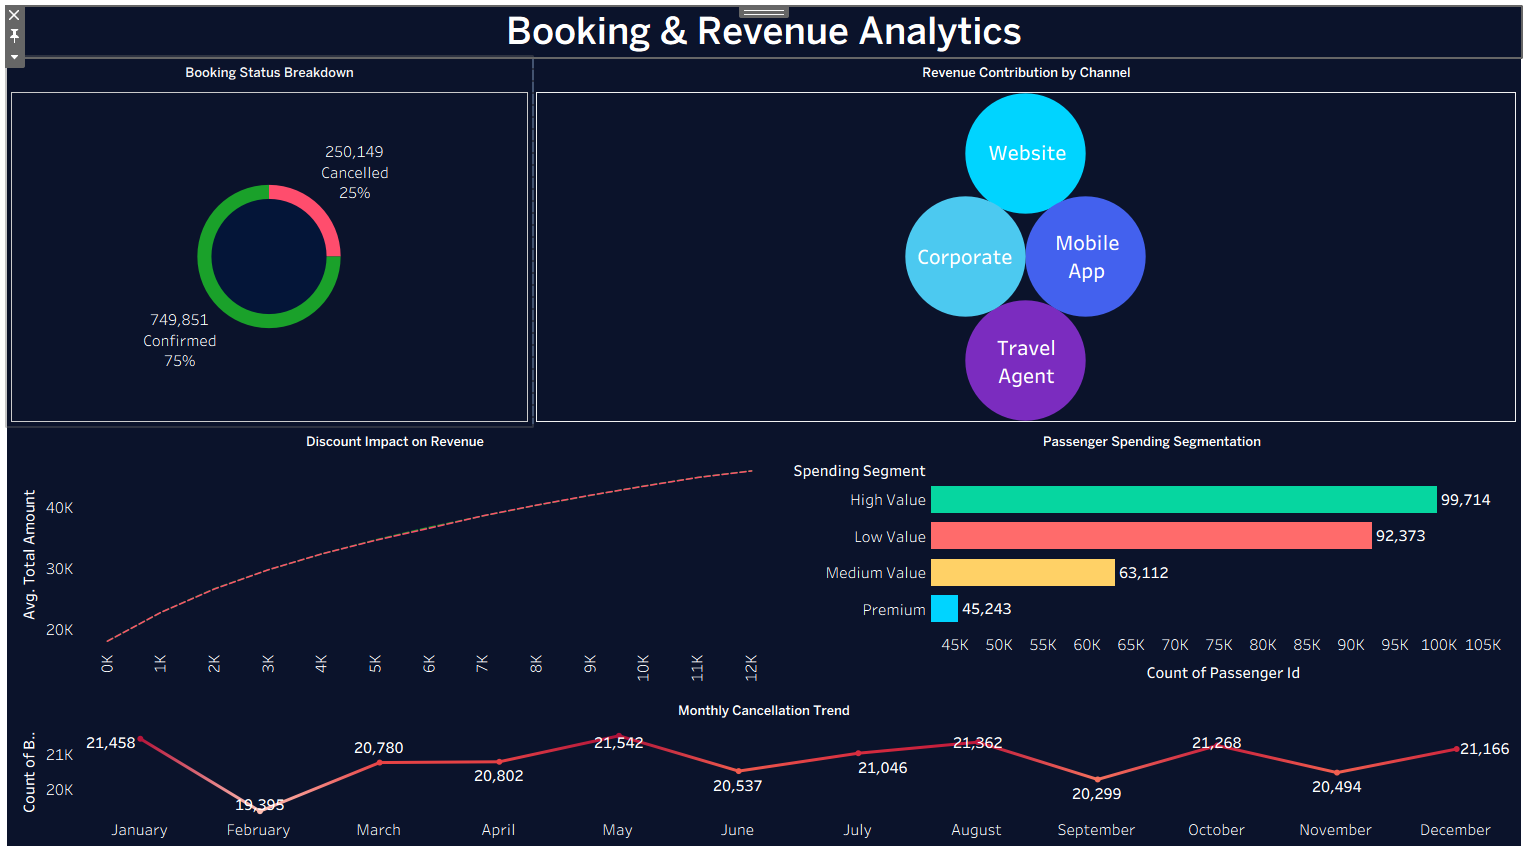

The page's visual inventory and layout, read from the dashboard file:
{"tool":"tableau","page":{"name":"Booking & Revenue Analytics","canvas":[1530,855],"ordinal":2},"visuals":[{"type":"title","box":[8,8,1514,50]},{"type":"dashboard-object","box":[22,13,106,39]},{"type":"worksheet","title":"Booking Status Breakdown","mark":"Pie","rows":["Calculation_1997820878884867","Calculation_1997820878946309"],"box":[8,58,525,369]},{"type":"worksheet","title":"Revenue Contribution by Channel","mark":"Circle","box":[533,58,989,369]},{"type":"worksheet","title":"Discount Impact on Revenue","mark":"Line","rows":["total_amount"],"cols":["Discount Amount (bin)"],"box":[8,427,776.1,269]},{"type":"worksheet","title":"Passenger Spending Segmentation","mark":"Bar","rows":["Calculation_1913988912549892"],"cols":["passenger_id"],"box":[784.1,427,737.9,269]},{"type":"worksheet","title":"Monthly Cancellation Trend","mark":"Line","rows":["booking_id"],"cols":["month_name"],"box":[8,696,1514,151]}]}

Visuals, with their boxes in screenshot pixels (x1, y1, x2, y2), scaled from the page's 1530x855 canvas onto the 1527x849 screenshot:
title: <bbox>8, 8, 1519, 58</bbox>
dashboard-object: <bbox>22, 13, 128, 52</bbox>
"Booking Status Breakdown" worksheet (Pie marks): <bbox>8, 58, 532, 424</bbox>
"Revenue Contribution by Channel" worksheet (Circle marks): <bbox>532, 58, 1519, 424</bbox>
"Discount Impact on Revenue" worksheet (Line marks): <bbox>8, 424, 783, 691</bbox>
"Passenger Spending Segmentation" worksheet (Bar marks): <bbox>783, 424, 1519, 691</bbox>
"Monthly Cancellation Trend" worksheet (Line marks): <bbox>8, 691, 1519, 841</bbox>
